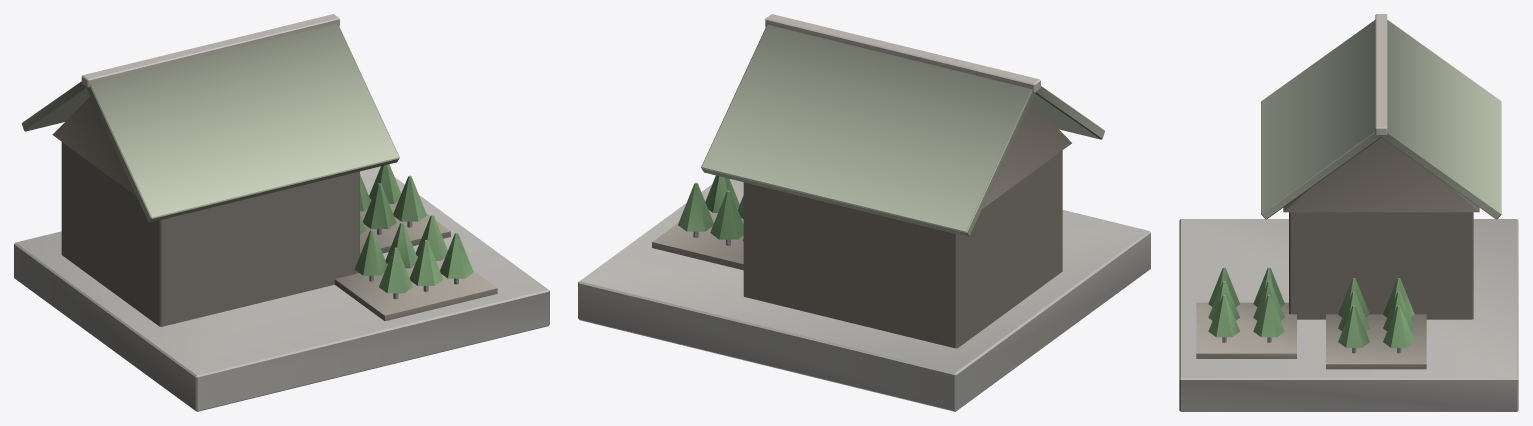
The model's file is forester_l1_lod2.glb.
3 views of the same model, side by side, from view 1: azimuth 30°, elevation 25°; view 2: azimuth 150°, elevation 25°; view 3: azimuth 270°, elevation 25° (orthographic). The views are drawn at different scales.
Parts seen in each view (by area): view 1: forester_l1_lod2; view 2: forester_l1_lod2; view 3: forester_l1_lod2.
Boxes of the visible parts, x1=… form: forester_l1_lod2: x1=14, y1=14, x2=549, y2=411; forester_l1_lod2: x1=578, y1=14, x2=1150, y2=411; forester_l1_lod2: x1=1179, y1=14, x2=1518, y2=411.
Size of the model in its own units: 7.66 by 5.25 by 6.8.
